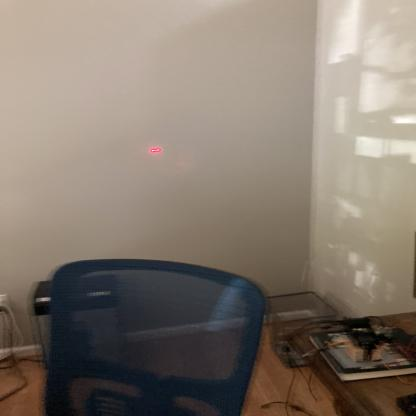target: (149, 146, 163, 154)
